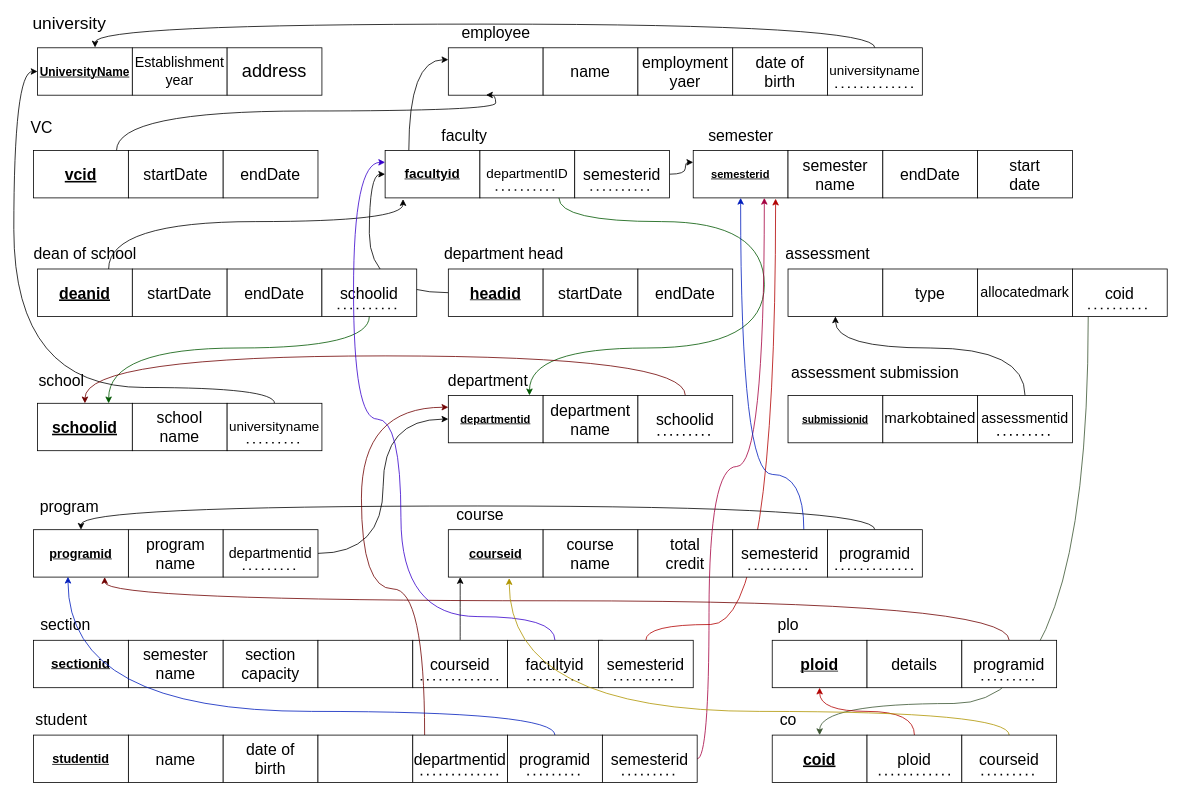
Some shapes in this 1181 by 796 pixel diagram are drawn without their labels. Each missing label, with the centre of its shape:
"assseessmentid" goes at (835,292).
"employeeID" goes at (495,71).
"enrollment date" goes at (365,758).
"section number" goes at (365,664).
